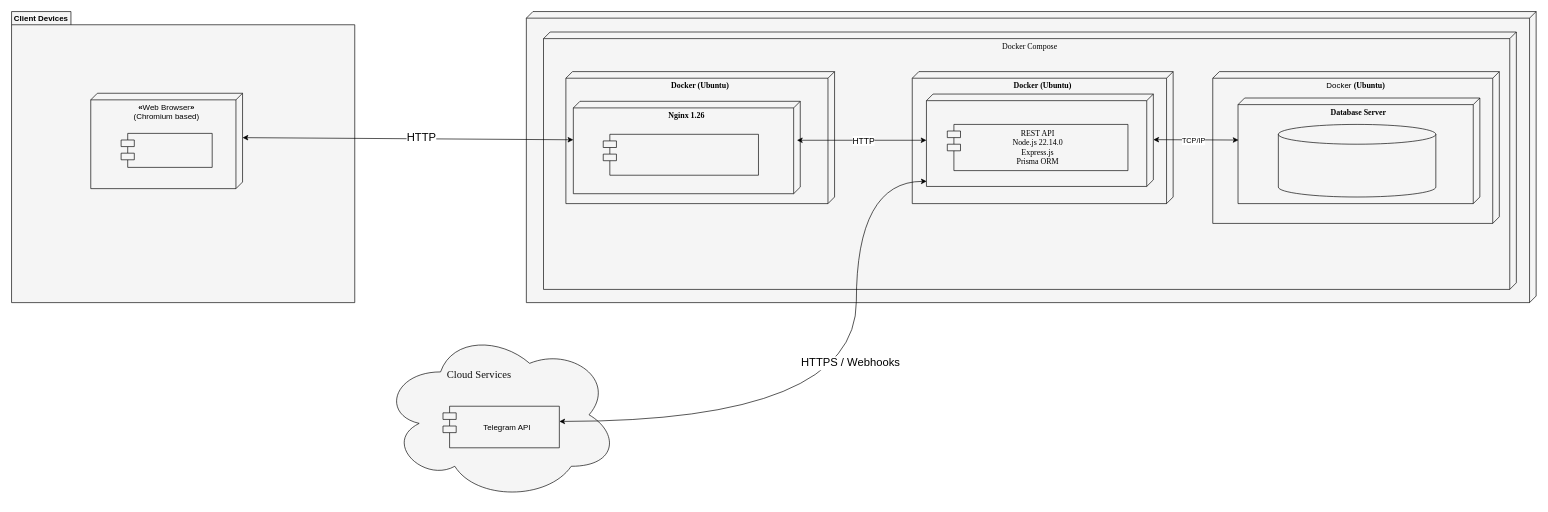
This 1548x512 diagram has some shape labels left out. The box of each missing label's shape, as (x1, y1, x2, y2) in pixels:
PostgreSQL 16 Database Schema: (1278, 124, 1436, 197)
React 18.3 JavaScript: (120, 133, 212, 167)
Reverse Proxy React Bundle: (603, 134, 758, 175)
Web API: (926, 93, 1153, 186)
Windows Server 2016: (526, 11, 1536, 303)
